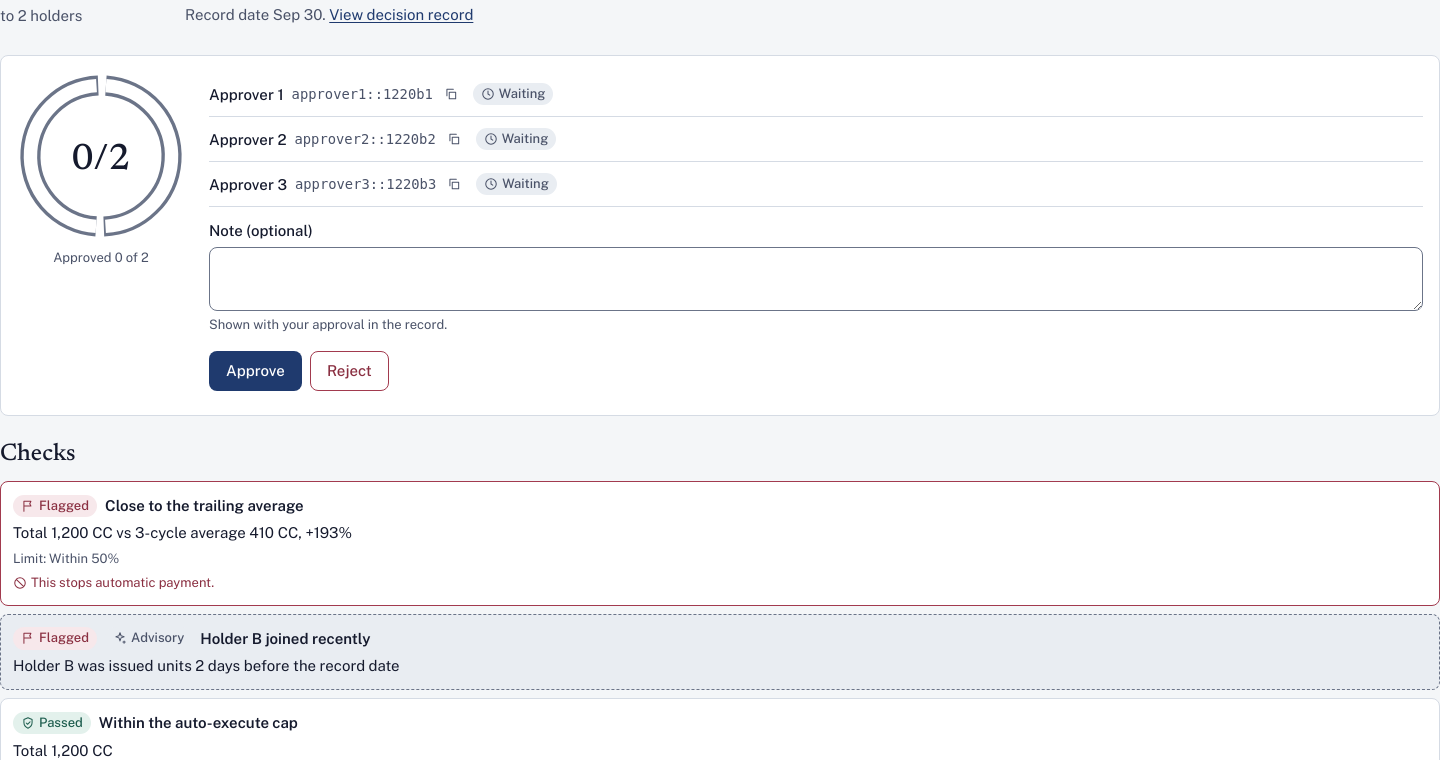
Test: cycle page › asks for a reason before rejecting and shows what the server answers
The width and height of the screenshot is (1440, 760).
(page scrolled)
Click the button "Reject" at x=349, y=371, box [310,351,389,391]
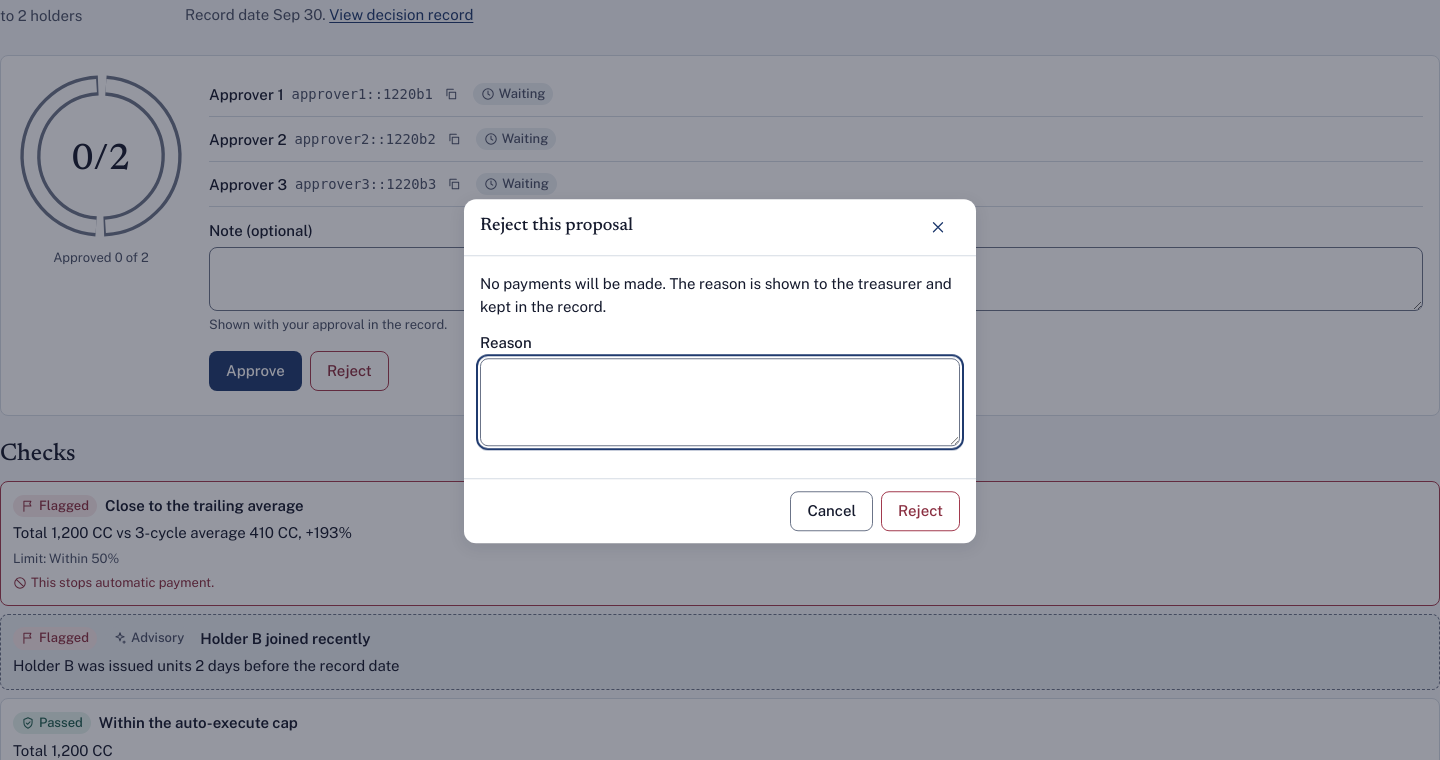
Click the button "Reject" at x=921, y=511, box [881,491,960,531]
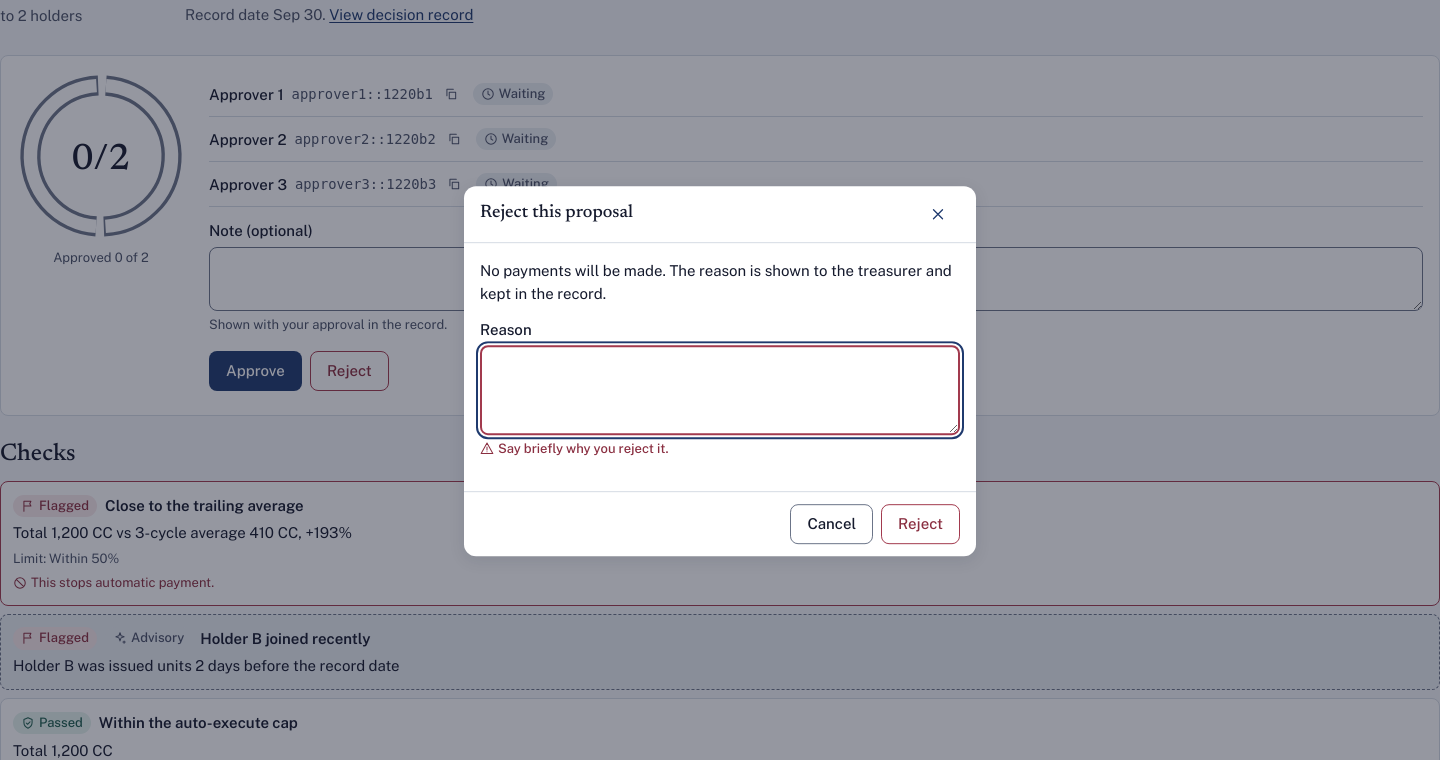
Check: the text "Say briefly why you reject it." is shown, box [498,439,668,459]
Type "Holder B units look wrong" into the text box labelled "Reason" at x=720, y=390, box [480,345,960,435]
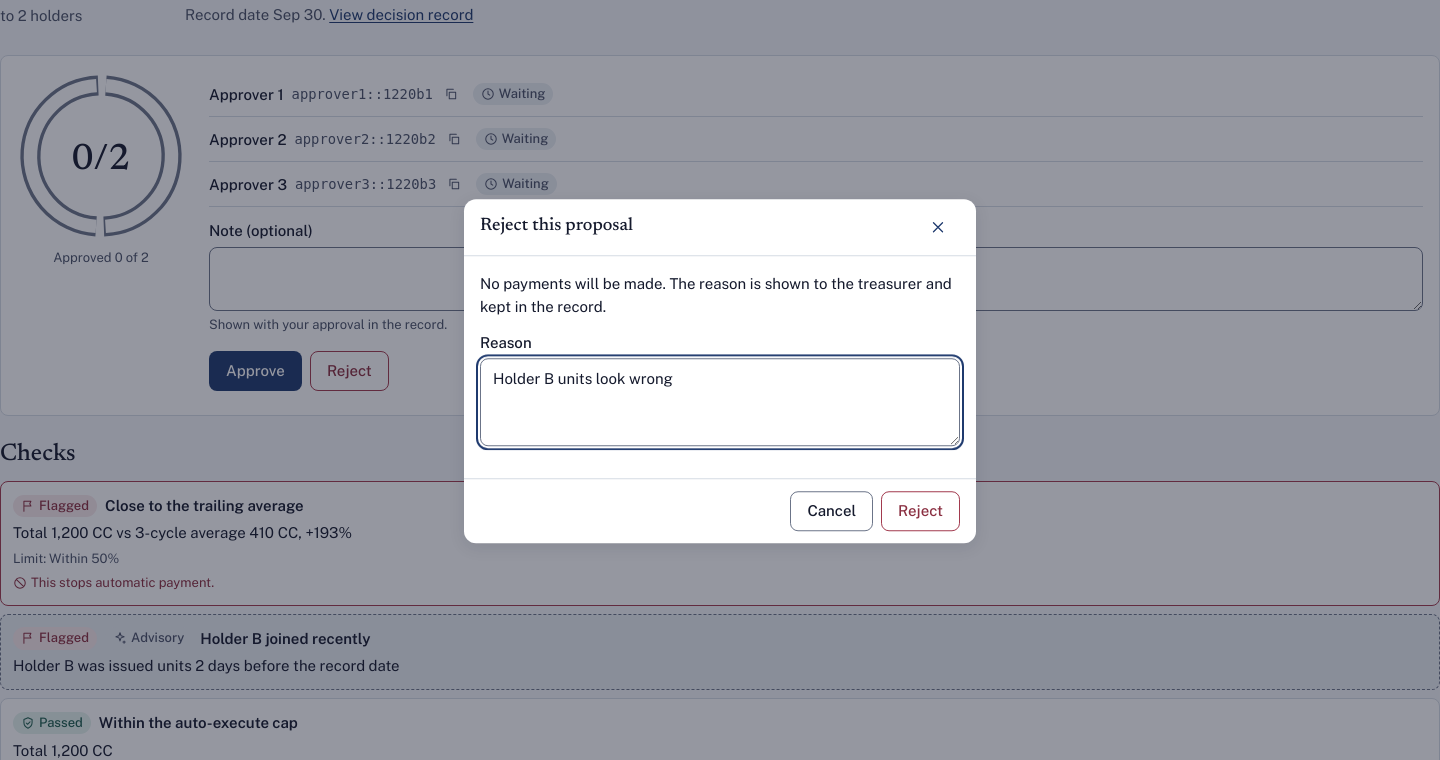
Click the button "Reject" at x=921, y=511, box [881,491,960,531]
(page scrolled)
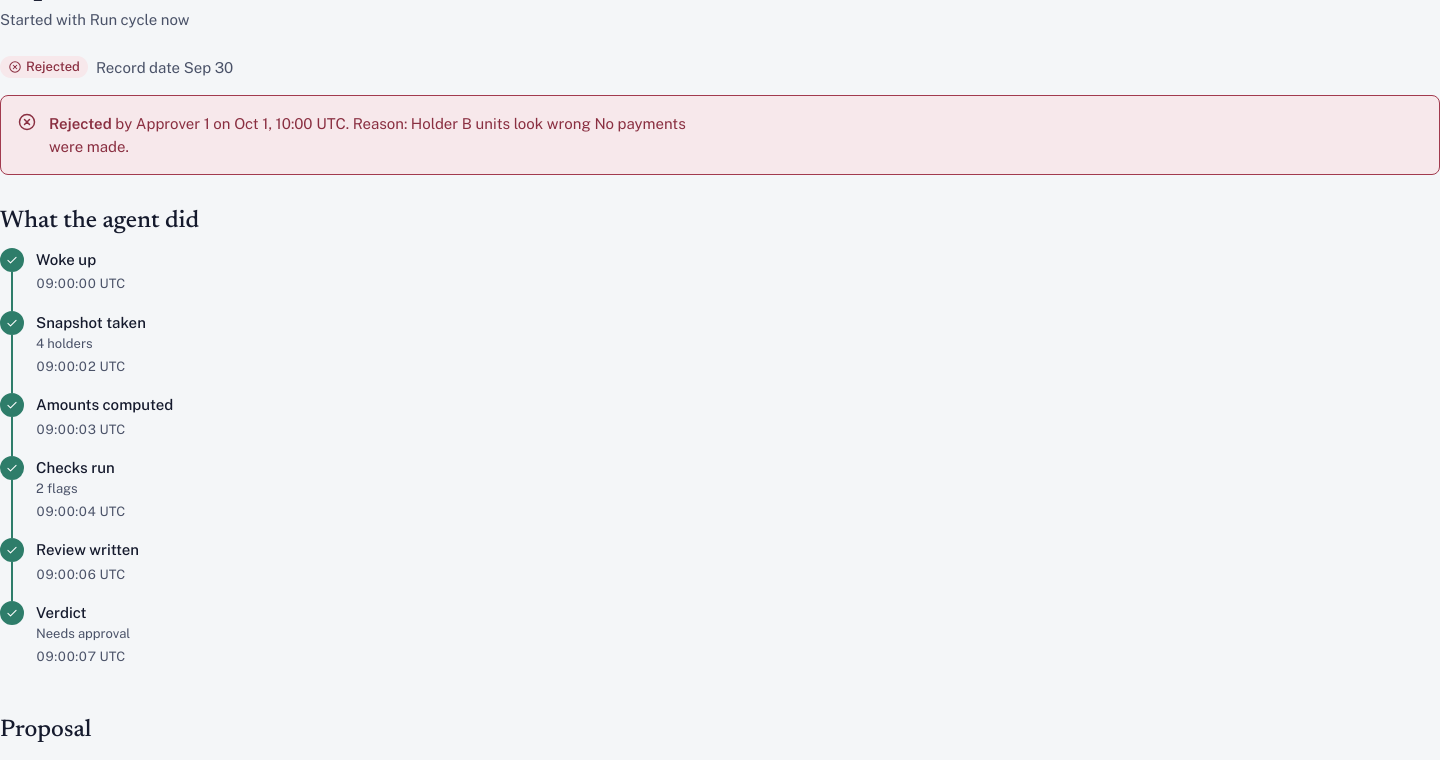
Check: the text "Reason: Holder B units look wrong" is shown, box [353,115,591,132]
Check: the text "No payments were made." is shown, box [49,115,686,155]
